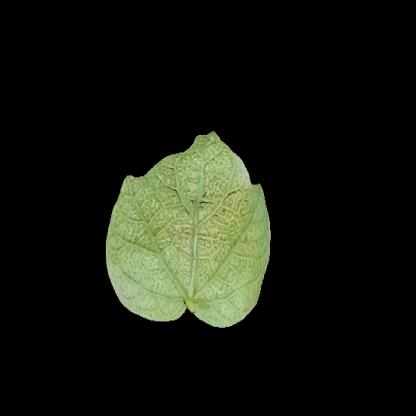curl_stage1: (148, 187, 253, 298)
